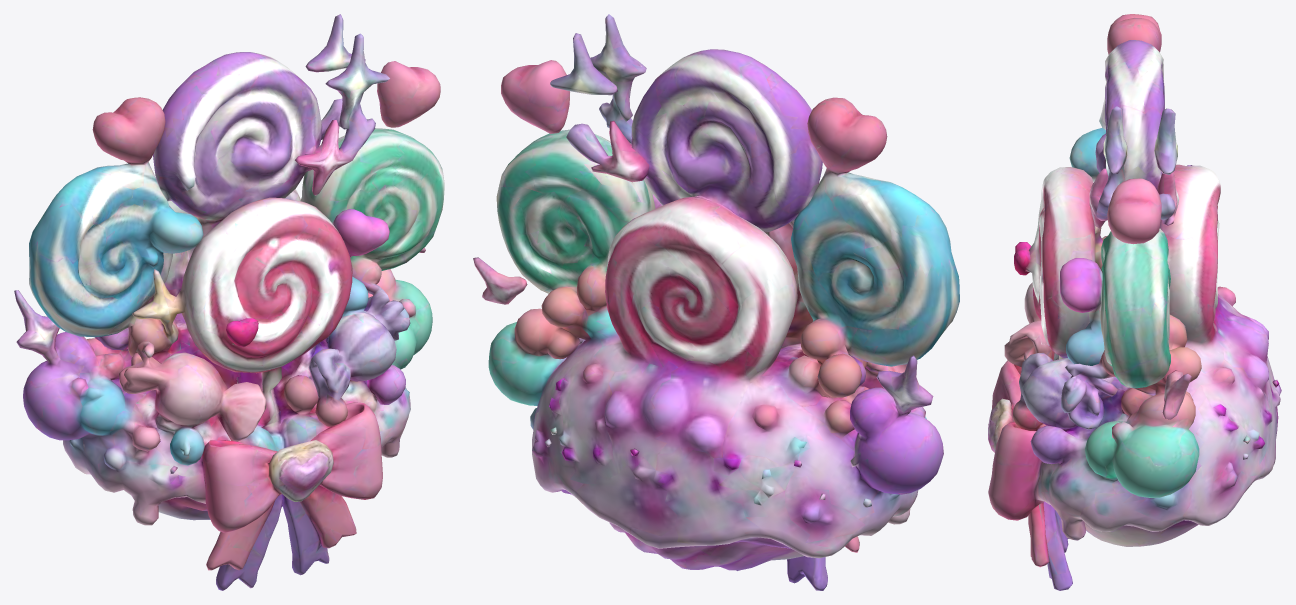
3 views of the same model, side by side, from view 1: azimuth 30°, elevation 25°; view 2: azimuth 150°, elevation 25°; view 3: azimuth 270°, elevation 25° (orthographic). The views are drawn at different scales.
Bounding box in the file's own units: 1.62 × 1.91 × 0.9746.
Materials: 1 (1 with a texture image).
